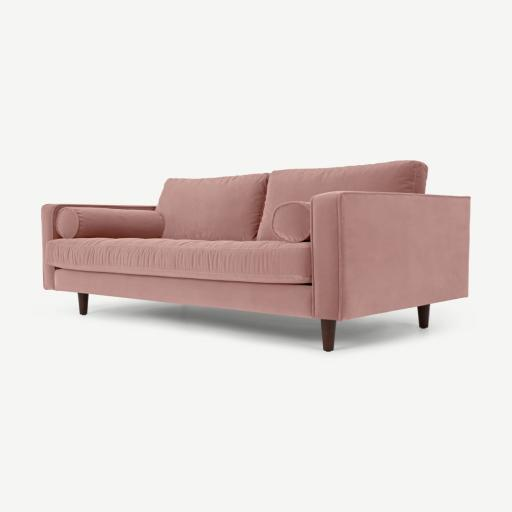back_cushion: (156, 161, 427, 241)
base: (55, 269, 312, 317)
left_arm: (311, 191, 470, 328)
legs: (321, 320, 336, 351), (419, 305, 429, 328), (79, 293, 88, 315)
right_arm: (42, 204, 92, 290), (99, 205, 154, 212)
seat_cushion: (46, 238, 311, 283)
two-seater: (0, 0, 511, 512)
